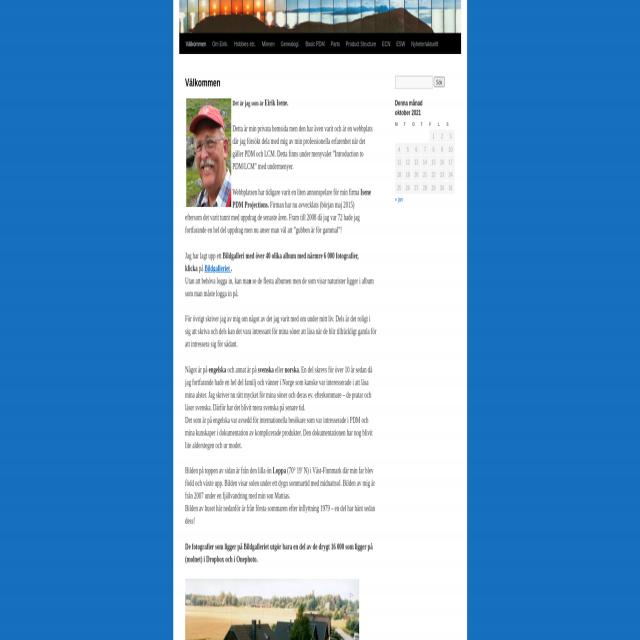button: (185, 579, 359, 640), (179, 0, 461, 33), (186, 100, 232, 208), (343, 35, 379, 55), (408, 35, 442, 55), (231, 35, 259, 55), (183, 35, 209, 55), (302, 35, 328, 55), (278, 35, 302, 55), (209, 35, 231, 55), (259, 35, 277, 55), (328, 35, 342, 55), (379, 35, 393, 55), (394, 35, 408, 55), (434, 78, 444, 88)
field: (395, 77, 433, 90)
